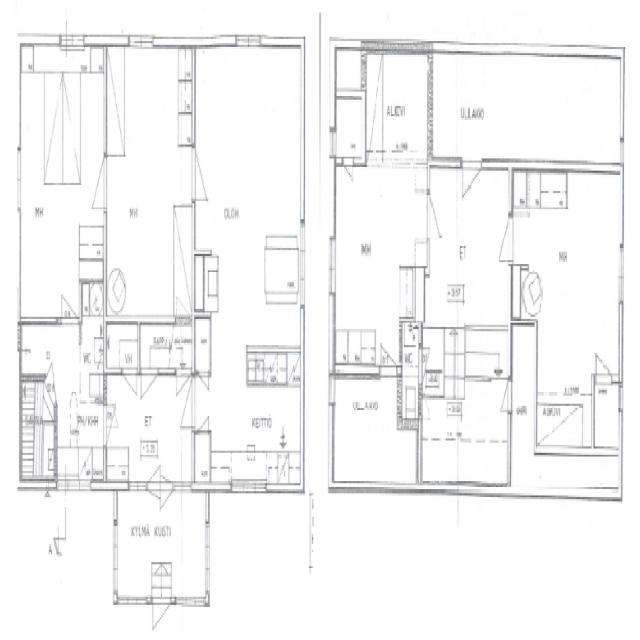door: (191, 146, 218, 201), (427, 188, 453, 242), (82, 154, 107, 207), (461, 156, 481, 221), (45, 356, 67, 410), (215, 0, 237, 47), (378, 319, 396, 376), (491, 215, 513, 260), (150, 594, 170, 640), (174, 386, 196, 427), (61, 275, 79, 325), (596, 334, 612, 382), (175, 367, 191, 413), (418, 347, 438, 383), (147, 446, 160, 493), (160, 478, 173, 525), (160, 446, 173, 493), (147, 478, 160, 524), (123, 368, 137, 410), (142, 368, 156, 410), (104, 410, 121, 444), (497, 380, 513, 410), (342, 158, 353, 194), (198, 368, 209, 402), (198, 406, 209, 438)
